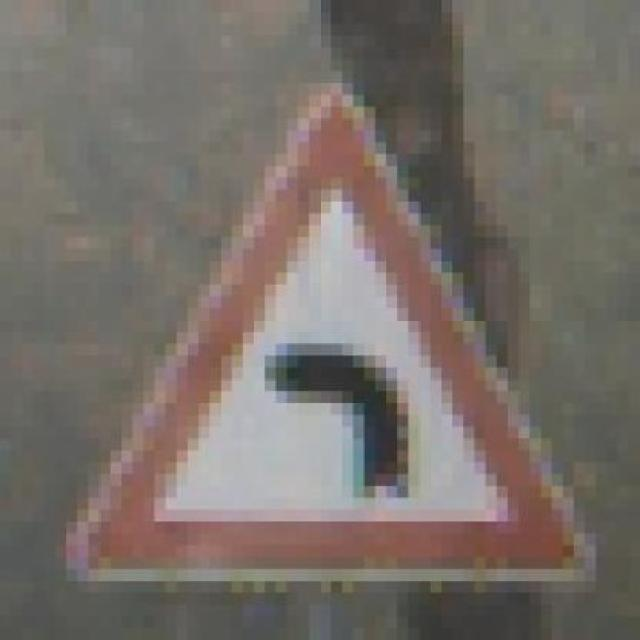Dangerous Left Curve Ahead: (33, 82, 596, 593)
